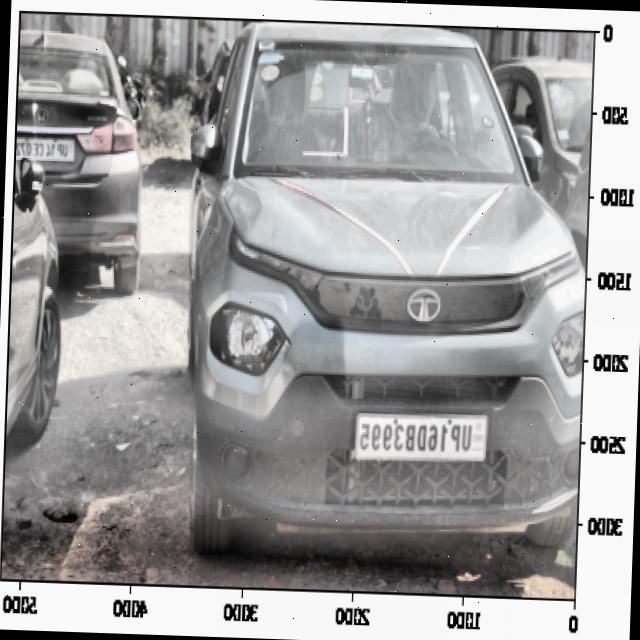license_plate: (354, 414, 476, 464)
